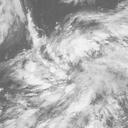cyclone: (23, 19, 120, 107)
